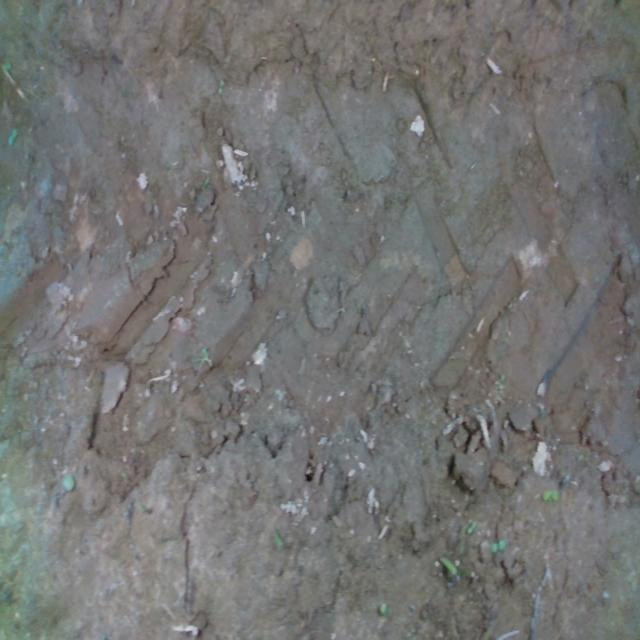weed: (489, 537, 507, 552), (540, 487, 559, 501)
